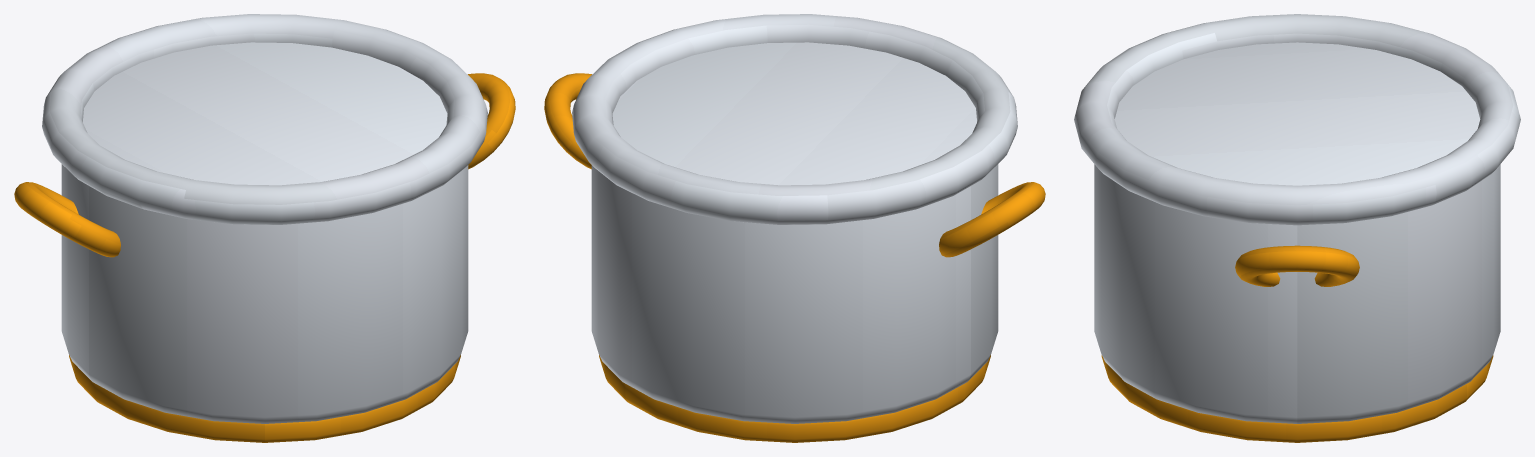
Rendered from pot.glb.
3 views of the same model, side by side, from view 1: azimuth 30°, elevation 25°; view 2: azimuth 150°, elevation 25°; view 3: azimuth 270°, elevation 25° (orthographic).
Visible parts, largest first — view 1: PotBody, PotTopRim, PotCopperBase, PotHandleL, PotHandleR; view 2: PotBody, PotTopRim, PotCopperBase, PotHandleL, PotHandleR; view 3: PotBody, PotTopRim, PotCopperBase, PotHandleR.
Part boxes in pixels (<box>): PotBody: <box>61,42,468,423</box>; PotTopRim: <box>42,14,487,224</box>; PotCopperBase: <box>69,355,460,442</box>; PotHandleL: <box>14,182,120,257</box>; PotHandleR: <box>468,73,515,169</box>; PotBody: <box>591,42,998,423</box>; PotTopRim: <box>572,14,1017,224</box>; PotCopperBase: <box>599,355,990,442</box>; PotHandleL: <box>939,182,1045,257</box>; PotHandleR: <box>544,73,591,169</box>; PotBody: <box>1094,42,1500,423</box>; PotTopRim: <box>1074,14,1520,225</box>; PotCopperBase: <box>1101,355,1493,442</box>; PotHandleR: <box>1235,245,1359,286</box>.
Bounding box in the file's own units: 0.7669 × 0.3973 × 0.616.
Materials: 3 (3 with a texture image).
